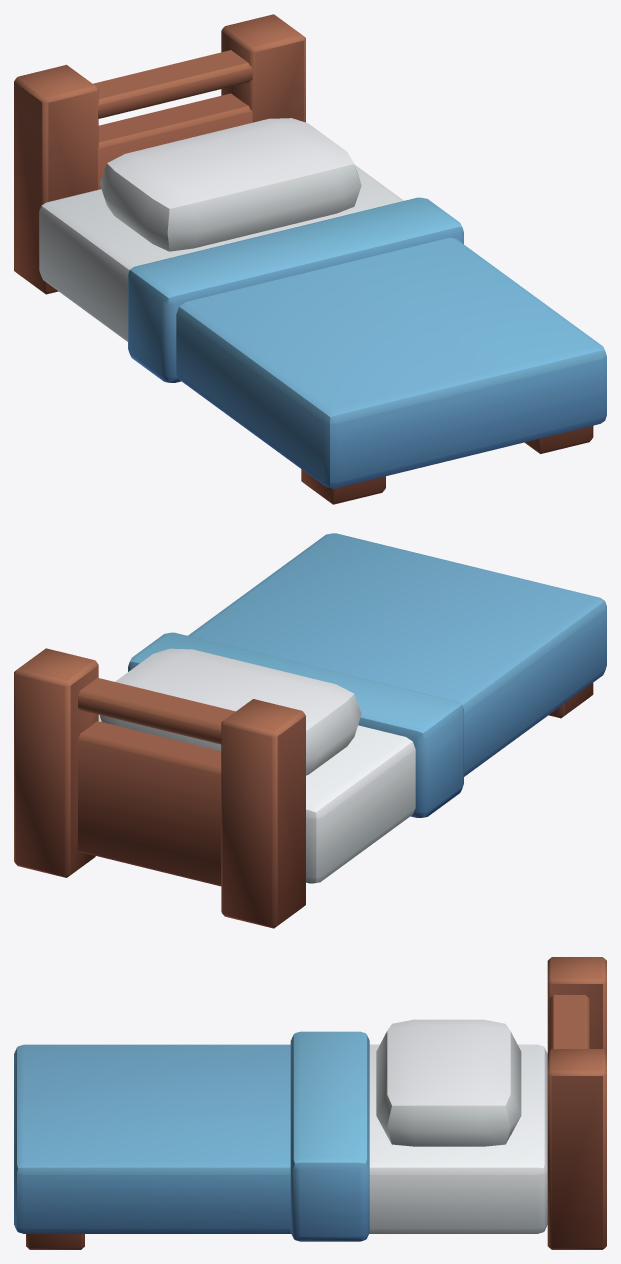
The model's file is kay-cama-solteiro.gltf.
3 views of the same model, one above another, from view 1: azimuth 30°, elevation 25°; view 2: azimuth 150°, elevation 25°; view 3: azimuth 270°, elevation 25° (orthographic). The views are drawn at different scales.
Visible parts, largest first — view 1: bed_single_A; view 2: bed_single_A; view 3: bed_single_A.
Part boxes in pixels (x1,y1,x2,y2): bed_single_A: [14, 14, 606, 504]; bed_single_A: [14, 533, 606, 928]; bed_single_A: [14, 957, 606, 1249].
Bounding box in the file's own units: 1.04 × 0.6499 × 1.95.
Materials: 1 (1 with a texture image).
